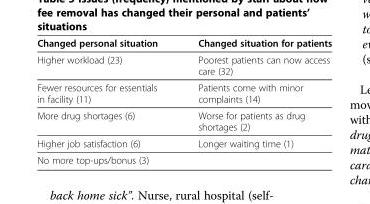table: (36, 36, 331, 165)
table column: (177, 36, 331, 165), (36, 36, 177, 165)
table column header: (36, 36, 331, 51)
table row: (36, 78, 331, 106), (36, 106, 331, 134), (36, 51, 331, 78), (36, 134, 331, 151), (36, 36, 331, 51), (36, 151, 331, 165)
